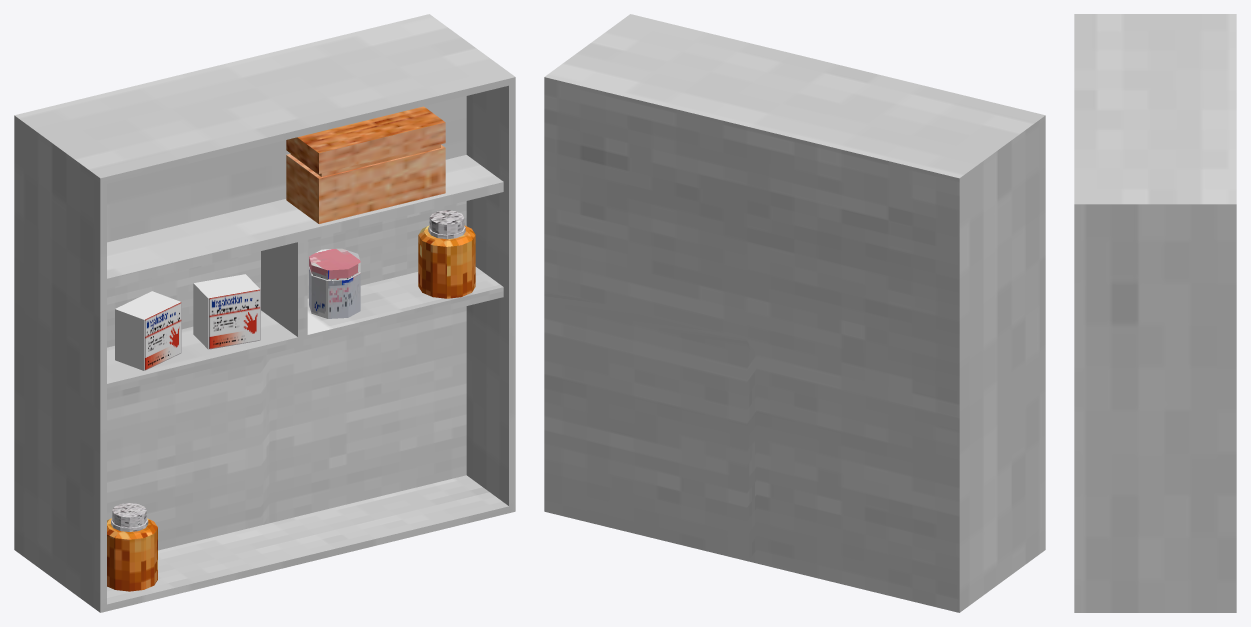
Rendered from Botiquin_baño.fbx.
The picture shows the model from 3 angles, left to right: view 1: azimuth 30°, elevation 25°; view 2: azimuth 150°, elevation 25°; view 3: azimuth 270°, elevation 25°; orthographic projection. The views are drawn at different scales.
Visible parts, largest first — view 1: polySurface3; view 2: polySurface3; view 3: polySurface3.
Part boxes in pixels (left/top/right/bottom): polySurface3: left=14, top=14, right=515, bottom=612; polySurface3: left=544, top=14, right=1045, bottom=612; polySurface3: left=1074, top=14, right=1236, bottom=612.
Size of the model in its own units: 48.28 by 48.28 by 17.36.
Materials: 1 (1 with a texture image).
